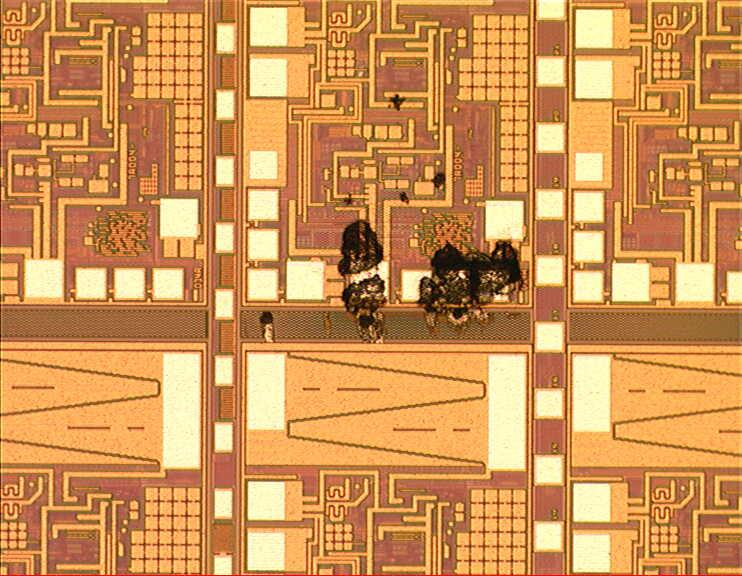SCRATCH: (258, 87, 531, 347)
